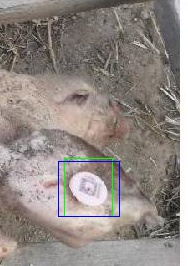text: (64, 158, 112, 216)
